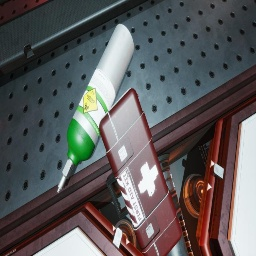0: (57, 24, 134, 193)
FirstAidBox ,: (99, 88, 182, 256)
